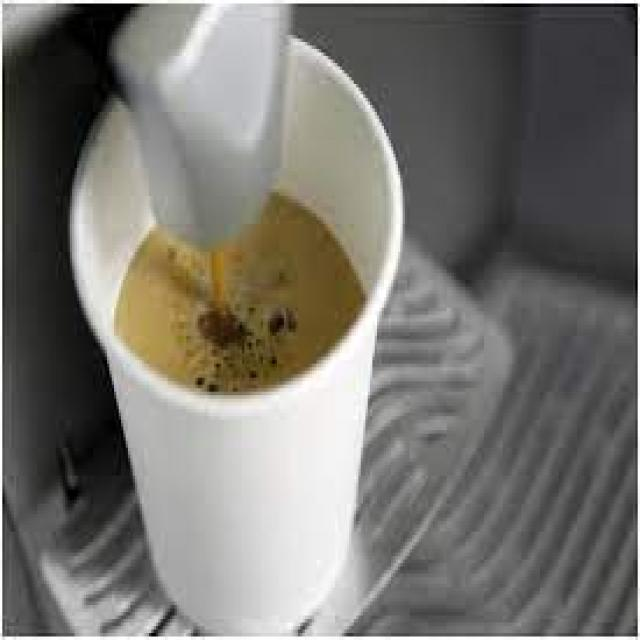PaperCardboard: (74, 34, 404, 629)
